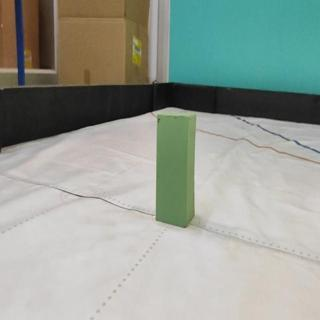greenbox: (156, 112, 198, 228)
